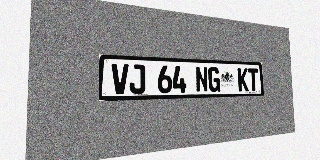4: (172, 66, 186, 93)
6: (157, 65, 172, 93)
G: (208, 67, 220, 92)
J: (129, 64, 145, 94)
K: (237, 68, 249, 91)
N: (195, 66, 208, 92)
T: (248, 68, 259, 91)
V: (111, 64, 129, 94)
